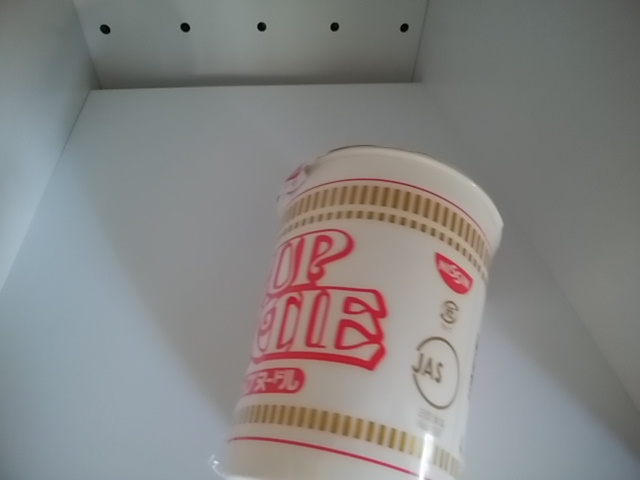cup-ramen: (205, 142, 507, 478)
